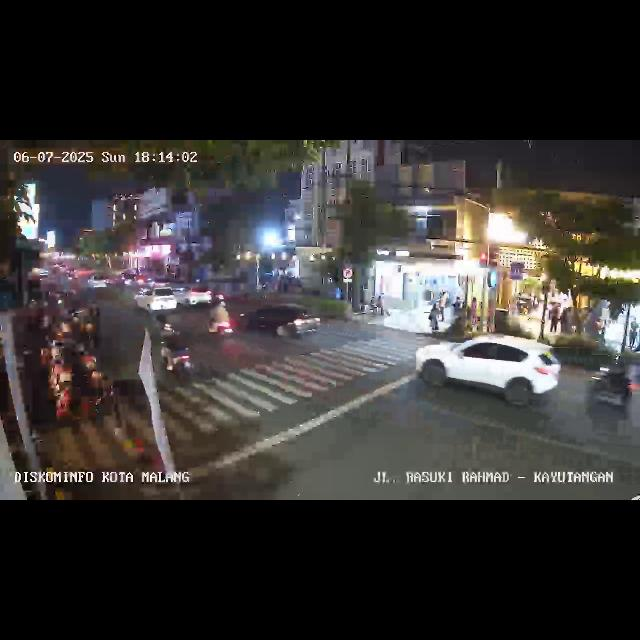car: (416, 336, 560, 409), (232, 301, 322, 343), (134, 284, 178, 316), (178, 282, 222, 310)
motorcycle: (586, 360, 636, 414), (158, 326, 194, 386), (208, 299, 234, 346)
person: (548, 302, 560, 336), (560, 304, 572, 336), (628, 314, 638, 352), (438, 292, 448, 326), (470, 296, 480, 330), (428, 302, 438, 334), (453, 294, 463, 320), (376, 292, 384, 316)
